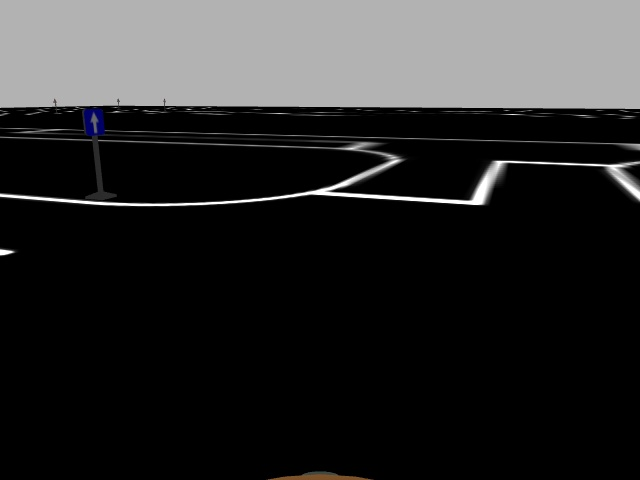oneway: (81, 107, 107, 140)
